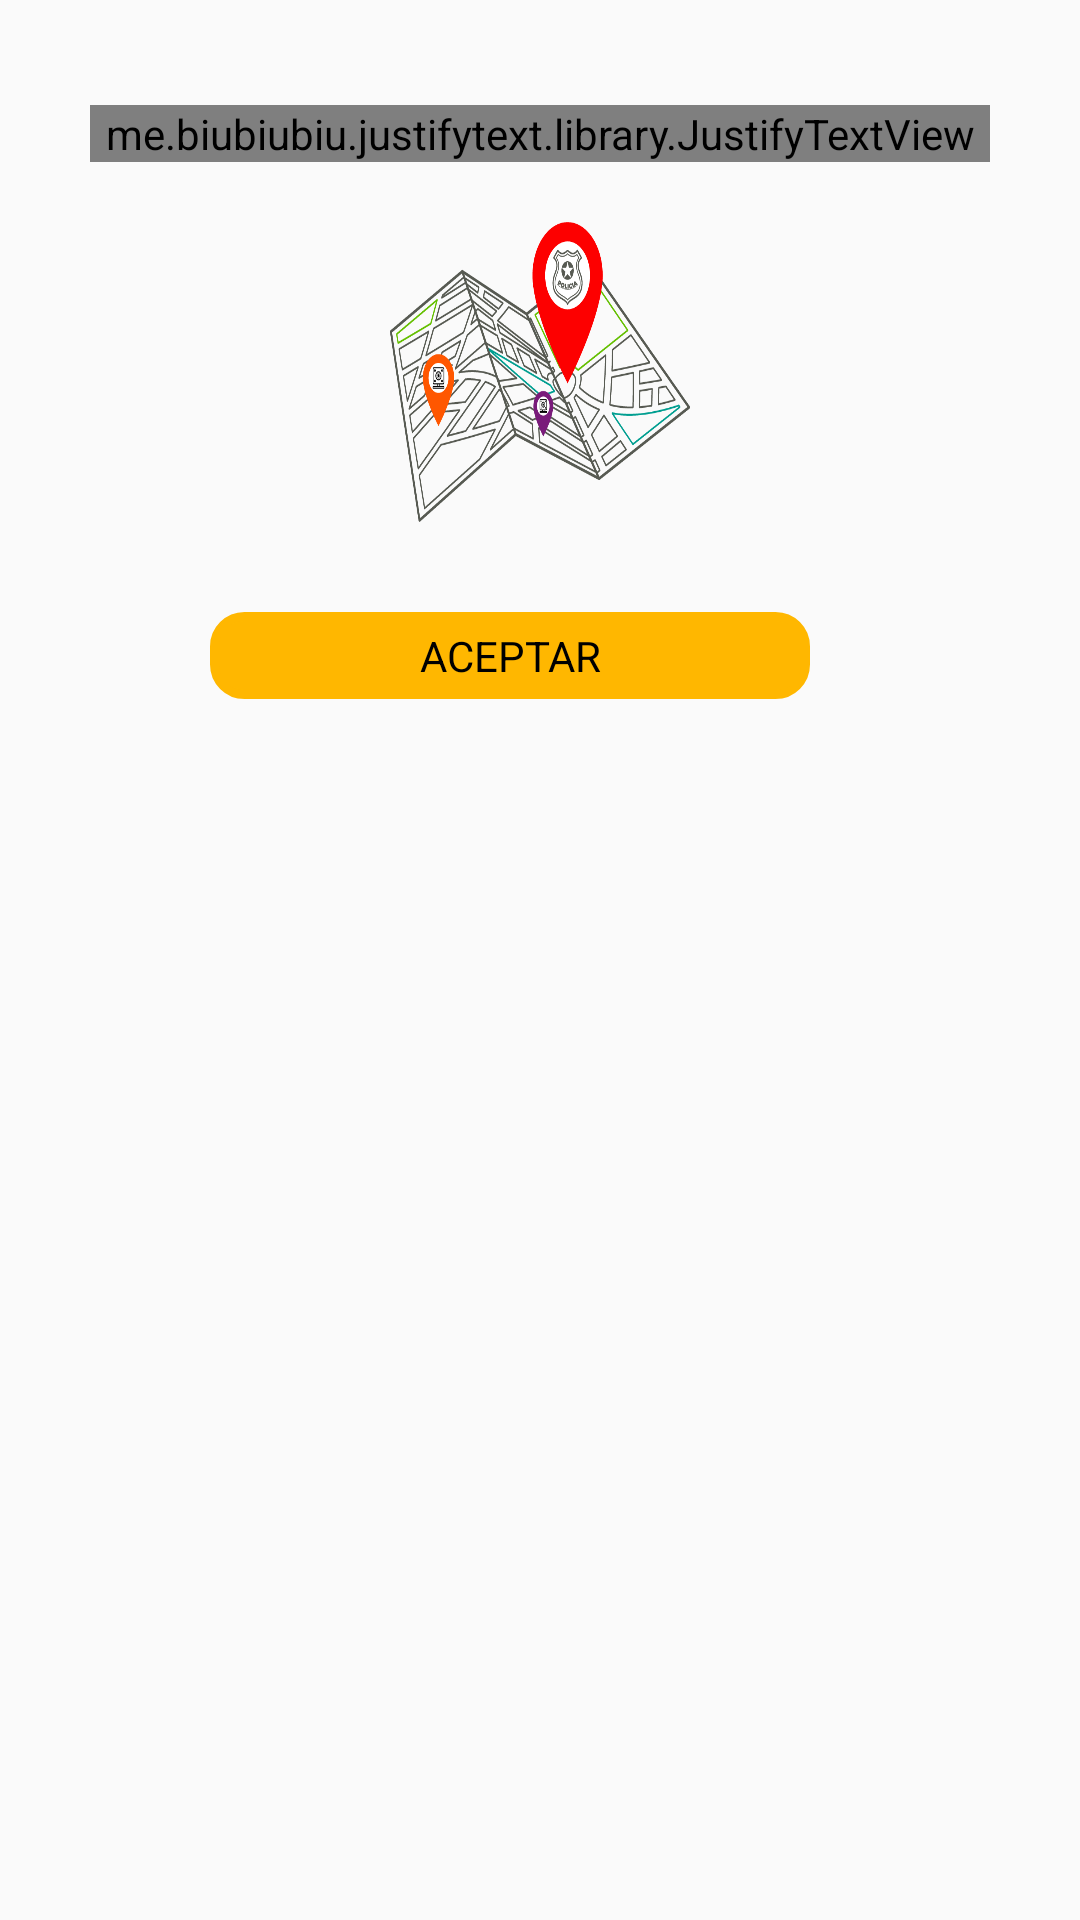

Where to tap for icons on this 1080px x 1920px app screen, as (x,y):
mapa pop: (540,372)
